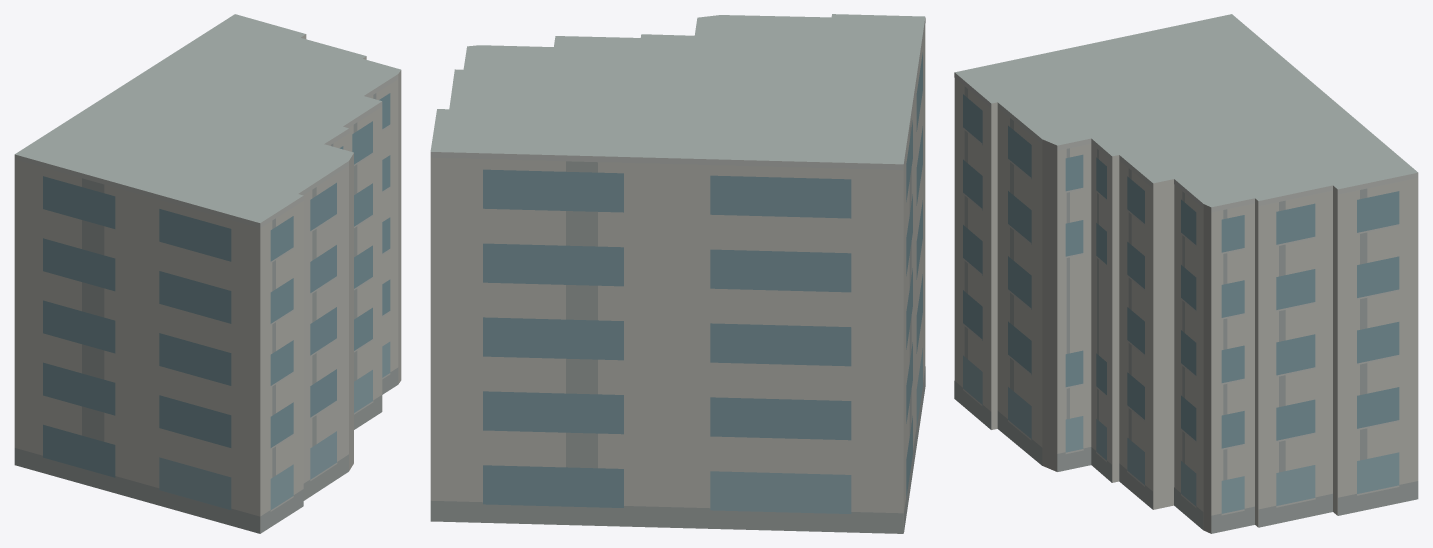
Rendered from survey-upis-32913590.glb.
3 views of the same model, side by side, from view 1: azimuth 30°, elevation 25°; view 2: azimuth 150°, elevation 25°; view 3: azimuth 270°, elevation 25° (orthographic). The views are drawn at different scales.
Visible parts, largest first — view 1: survey-upis-32913590.tmp; view 2: survey-upis-32913590.tmp; view 3: survey-upis-32913590.tmp.
Part boxes in pixels (box(x1,y1,x2,y2)): survey-upis-32913590.tmp: box(14, 14, 401, 533); survey-upis-32913590.tmp: box(430, 14, 925, 533); survey-upis-32913590.tmp: box(954, 14, 1418, 533).
Size of the model in its own units: 19.37 by 15.25 by 19.64.
